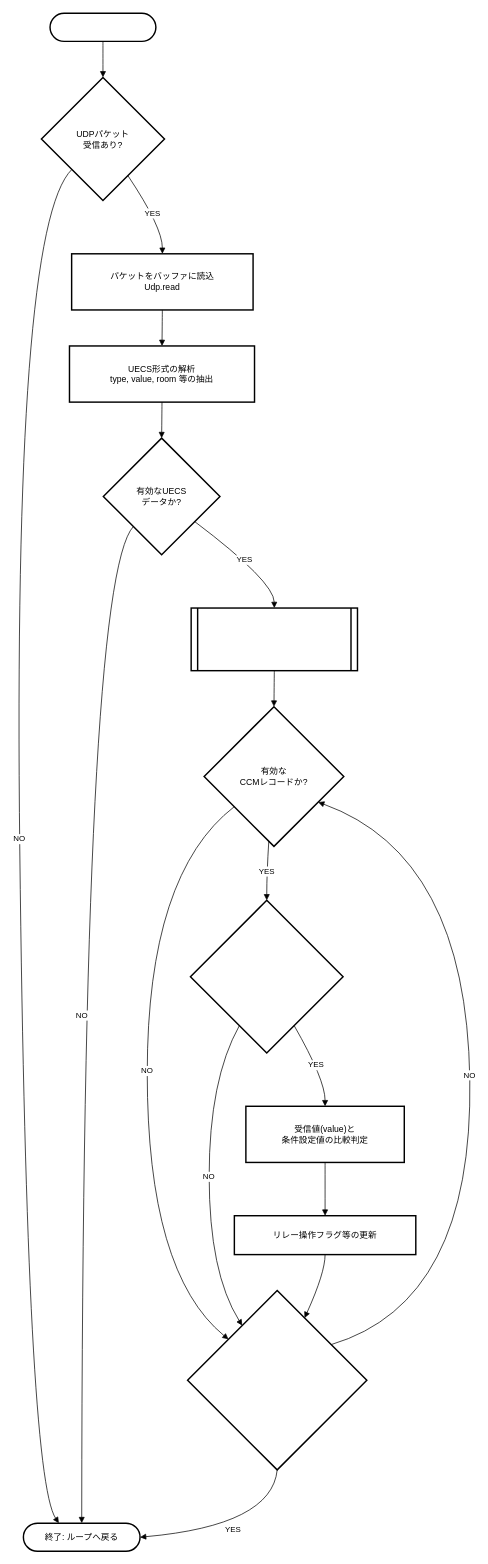
Image size: 488x1564. Some labels were removed from this diagram. The shapes that lost their labels are listed below. From the top down, each one's centre as x and y in pixels, then its label:
At [102,27]: "開始: packetProc".
At [274,639]: "RX CCMテーブル走査開始 インデックス 0 〜 (CCM_TBL_CNT_RX - 1)".
At [266,976]: "type と room が 受信データと一致?".
At [276,1380]: "全 CCM_TBL_CNT_RX 件 確認完了?".
